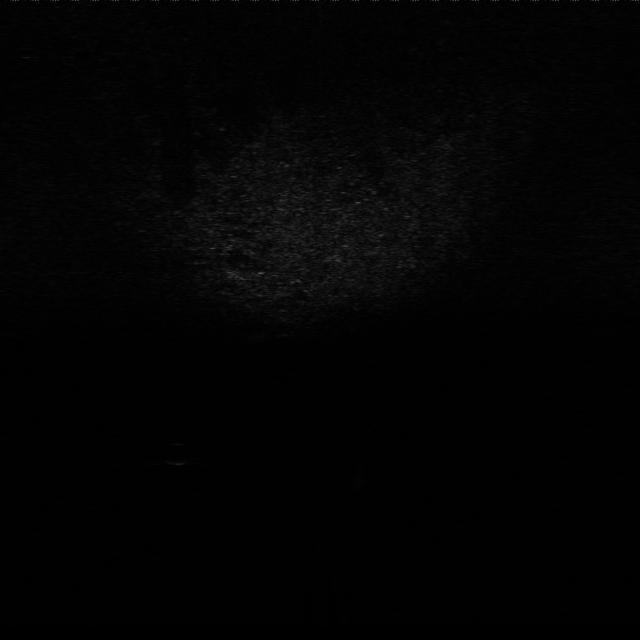ball: (162, 437, 200, 469)
